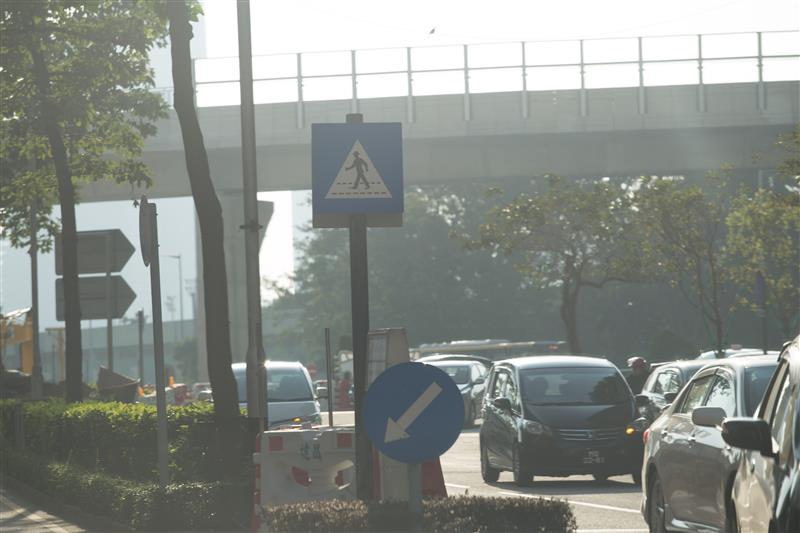keepLeft: (362, 363, 463, 464)
pedestrianCrossing: (310, 121, 405, 216)
